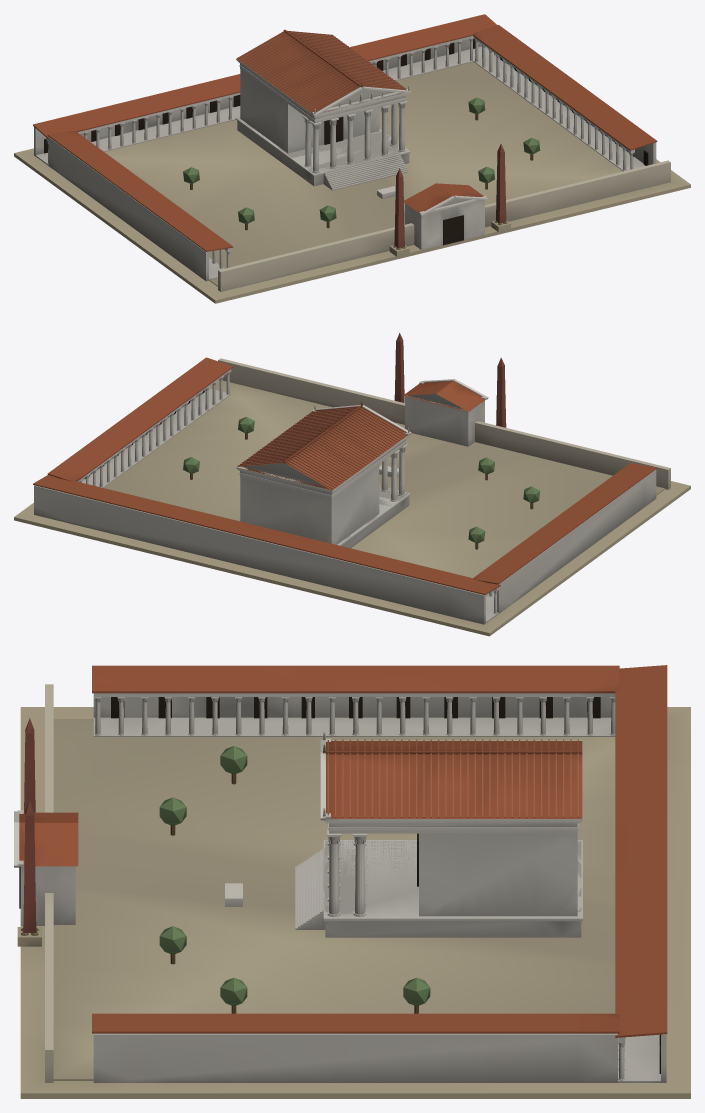
File: caesareum.glb
3 views of the same model, one above another, from view 1: azimuth 30°, elevation 25°; view 2: azimuth 150°, elevation 25°; view 3: azimuth 270°, elevation 25° (orthographic). The views are drawn at different scales.
Parts seen in each view (by area): view 1: p0_precinct, p1_porticoes, p2_temple, p3_roof; view 2: p1_porticoes, p0_precinct, p3_roof, p2_temple; view 3: p0_precinct, p1_porticoes, p2_temple, p3_roof.
Part boxes in pixels (bbox=[...]): p0_precinct: bbox=[14, 62, 690, 303]; p1_porticoes: bbox=[33, 14, 670, 291]; p2_temple: bbox=[235, 69, 510, 256]; p3_roof: bbox=[183, 29, 540, 230]; p1_porticoes: bbox=[33, 357, 670, 624]; p0_precinct: bbox=[14, 380, 690, 636]; p3_roof: bbox=[183, 401, 540, 549]; p2_temple: bbox=[240, 333, 506, 548]; p0_precinct: bbox=[20, 707, 690, 1098]; p1_porticoes: bbox=[14, 665, 667, 1082]; p2_temple: bbox=[17, 718, 582, 946]; p3_roof: bbox=[159, 732, 582, 1013].
Bounding box in the file's own units: 150 × 29.19 × 111.
